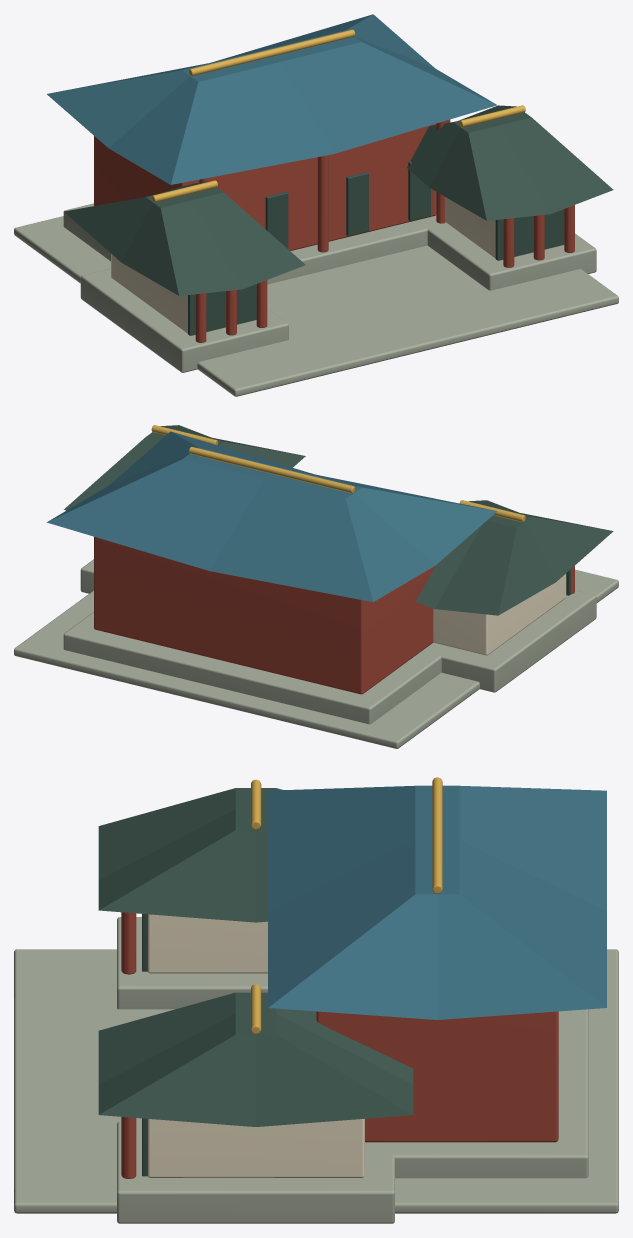
The model's file is fuzimiao-original.glb.
3 views of the same model, one above another, from view 1: azimuth 30°, elevation 25°; view 2: azimuth 150°, elevation 25°; view 3: azimuth 270°, elevation 25° (orthographic). The views are drawn at different scales.
Parts seen in each view (by area): view 1: Dacheng hall roof, temple square, side court roof, Dacheng hall body, side court roof.001, side court plinth, side court plinth.001, Dacheng hall plinth, side court body, side court body.001, Dacheng hall door.002, Dacheng hall roof ridge (+12 smaller); view 2: Dacheng hall roof, Dacheng hall body, temple square, side court roof, Dacheng hall plinth, side court plinth, side court body, side court roof.001, Dacheng hall roof ridge; view 3: Dacheng hall roof, temple square, side court roof.001, Dacheng hall body, side court roof, side court plinth.001, side court body.001, Dacheng hall plinth, side court body, side court plinth, Dacheng hall roof ridge, side court pillar.002 (+1 smaller).
Boxes of the visible parts, x1,y1,x2,y2 form: Dacheng hall roof: (47, 14, 497, 184); temple square: (14, 216, 618, 396); side court roof: (64, 181, 305, 295); Dacheng hall body: (94, 119, 450, 250); side court roof.001: (407, 105, 613, 220); side court plinth: (80, 268, 288, 372); side court plinth.001: (427, 223, 596, 290); Dacheng hall plinth: (63, 203, 446, 284); side court body: (111, 254, 256, 335); side court body.001: (435, 191, 564, 260); Dacheng hall door.002: (346, 172, 368, 236); Dacheng hall roof ridge: (189, 29, 355, 76); Dacheng hall roof: (46, 431, 497, 602); Dacheng hall body: (94, 536, 435, 694); temple square: (14, 569, 618, 748); side court roof: (416, 500, 613, 615); Dacheng hall plinth: (63, 612, 451, 724); side court plinth: (440, 590, 596, 692); side court body: (433, 573, 566, 655); side court roof.001: (64, 425, 305, 510); Dacheng hall roof ridge: (189, 447, 355, 493); Dacheng hall roof: (268, 785, 606, 1019); temple square: (14, 949, 618, 1213); side court roof.001: (98, 992, 413, 1126); Dacheng hall body: (316, 1011, 558, 1142); side court roof: (98, 788, 283, 922); side court plinth.001: (117, 1121, 394, 1223); side court body.001: (147, 1118, 364, 1177); Dacheng hall plinth: (365, 1009, 588, 1178); side court body: (147, 914, 267, 973); side court plinth: (117, 917, 267, 1009); Dacheng hall roof ridge: (432, 777, 442, 894); side court pillar.002: (121, 912, 136, 974).
Bounding box in the file's own units: 11.3 × 4.66 × 10.
